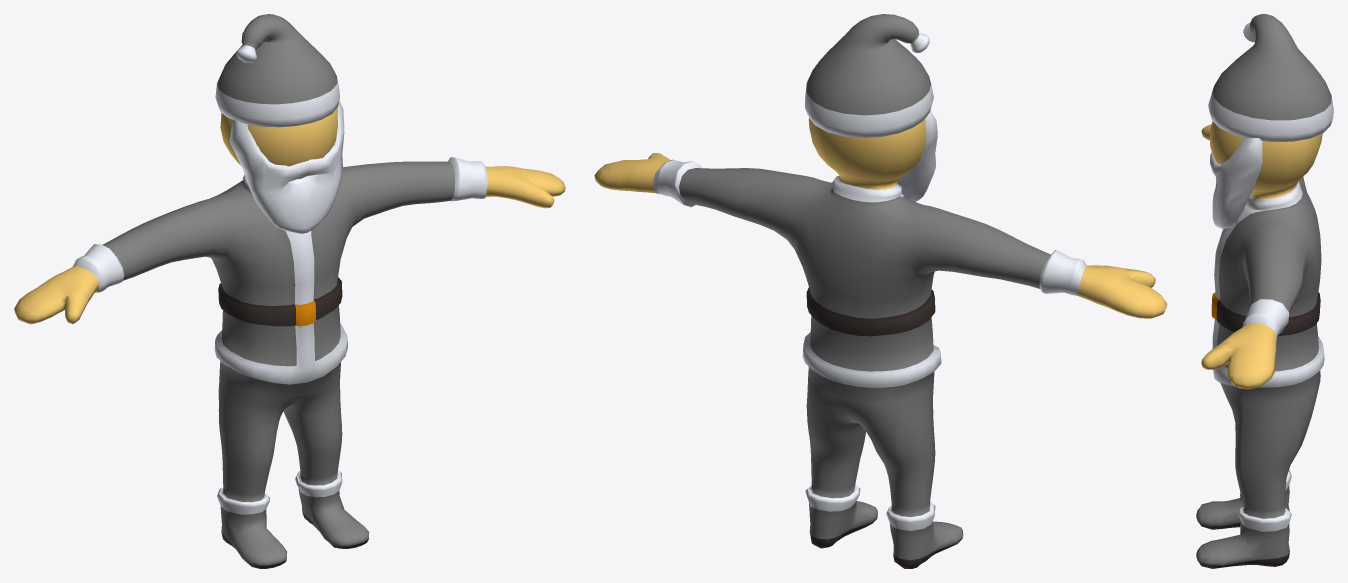
File: Santa.fbx
3 renders of one model, left to right at view 1: azimuth 30°, elevation 25°; view 2: azimuth 150°, elevation 25°; view 3: azimuth 270°, elevation 25°, orthographic. The views are drawn at different scales.
Parts seen in each view (by area): view 1: Santa; view 2: Santa; view 3: Santa.
Part boxes in pixels (left/top/right/bottom): Santa: left=14, top=14, right=565, bottom=568; Santa: left=594, top=14, right=1167, bottom=568; Santa: left=1196, top=14, right=1333, bottom=568.
Size of the model in its own units: 24.14 by 22.08 by 5.29.
